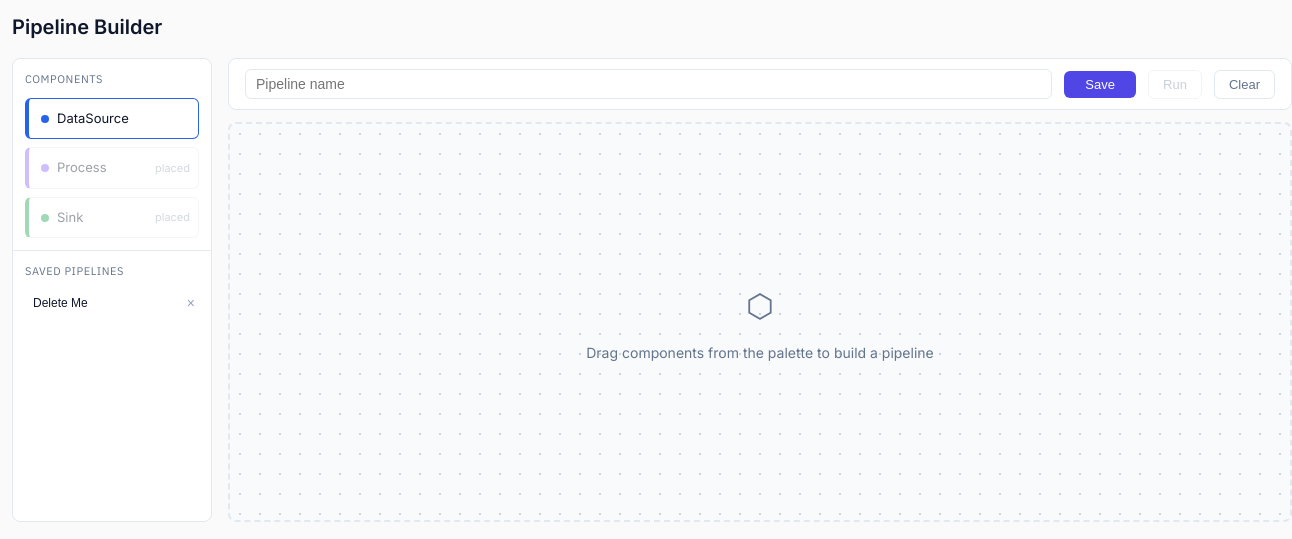
Test case: AC3 — delete action shows confirmation and calls API on confirm › shows an inline confirmation prompt when the delete button is clicked
The width and height of the screenshot is (1292, 539).
Click the button named "delete pipeline Delete Me" at (191, 302), box [183,290,199,314]
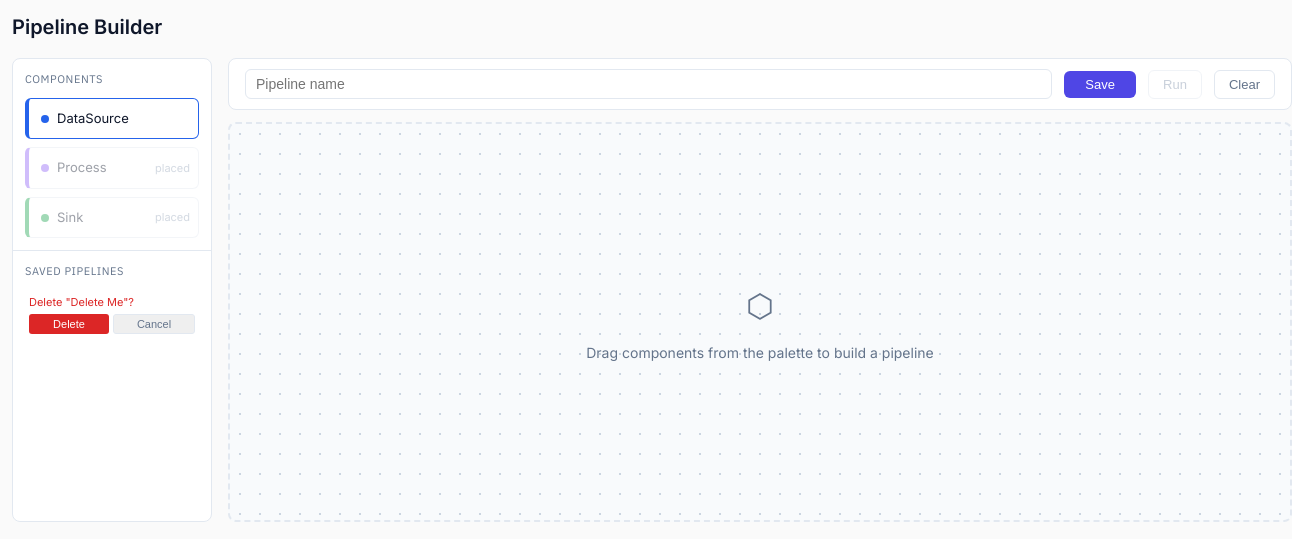
expect the text "Delete \"Delete Me\"?" is shown: met, box [29,294,134,308]
